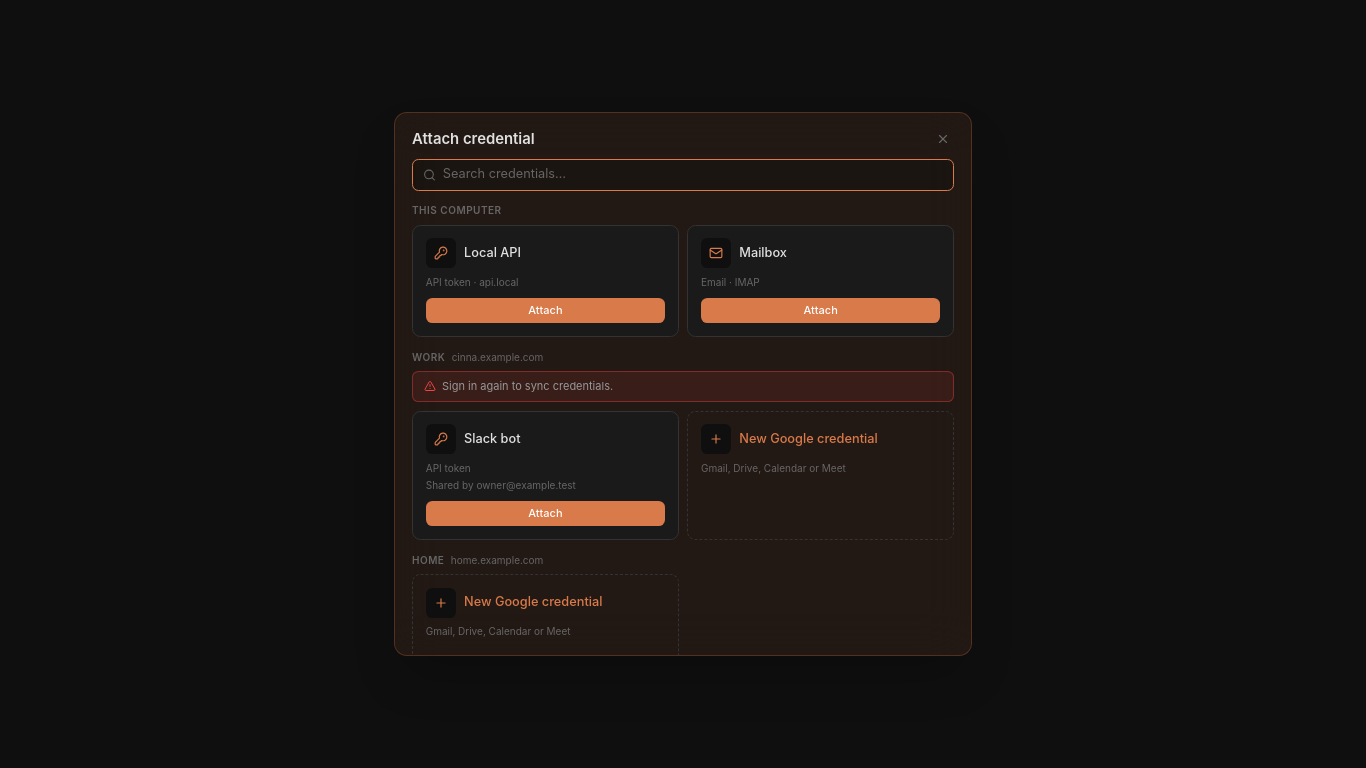
Test: CredentialAttachModal › shows a failed attach on its card and keeps the modal open
Click the button with aria-label "Attach Mailbox" at (821, 311), box left=701, top=298, right=940, bottom=323
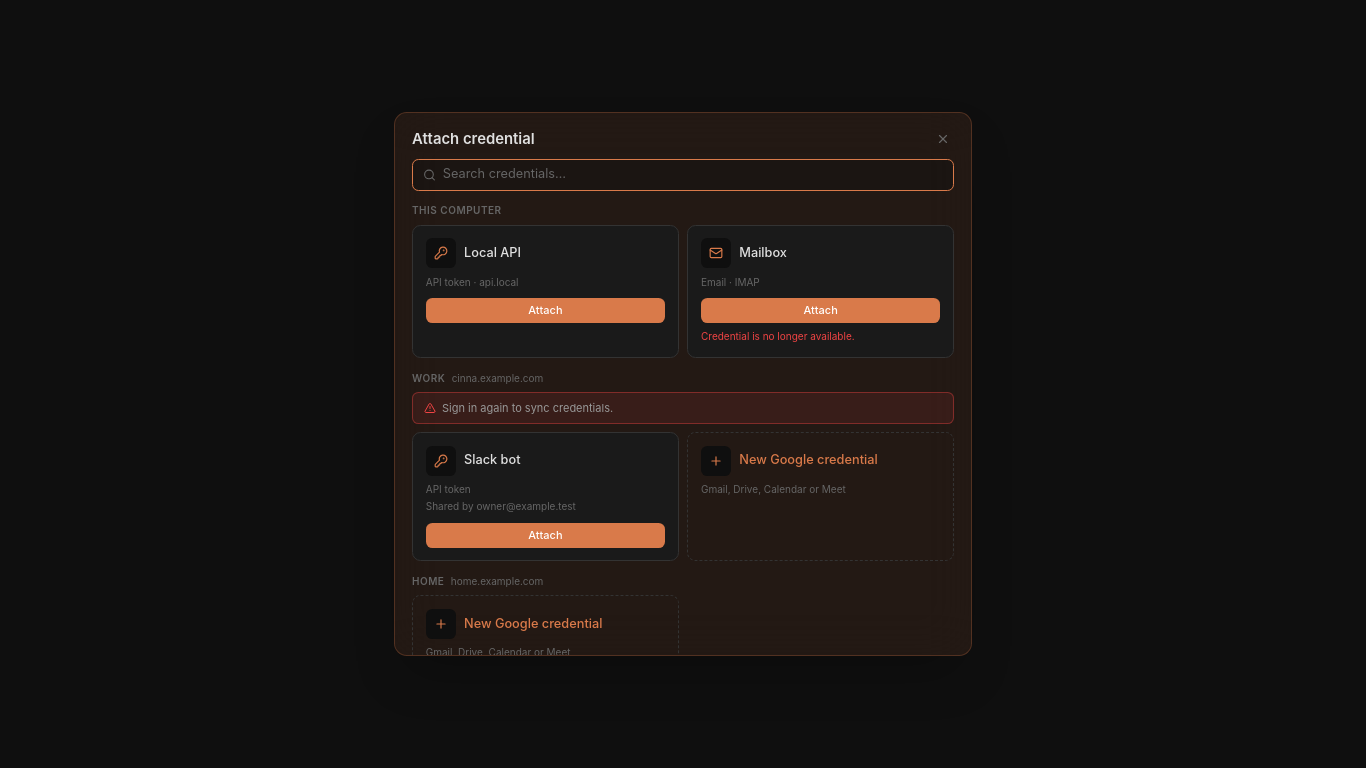
Expected: the message reads "Credential is no longer available.", left=701, top=330, right=855, bottom=342
